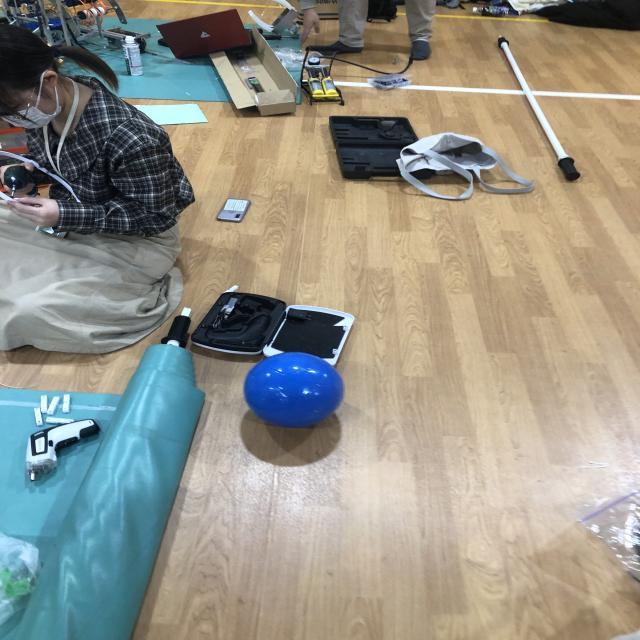blue_ball: (242, 353, 346, 425)
